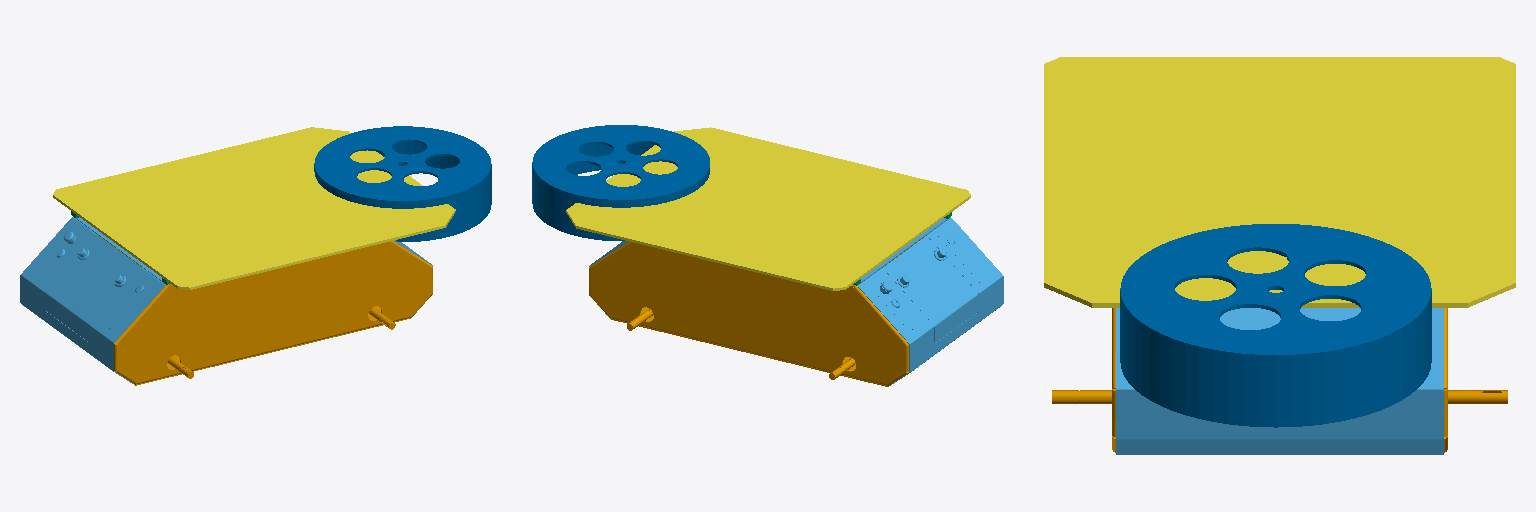
The robot description file, URDF, robot "husky":
<?xml version="1.0" encoding="utf-8"?>
<!-- =================================================================================== -->
<!-- |    This document was autogenerated by xacro from husky_for_copying.urdf.xacro   | -->
<!-- |    EDITING THIS FILE BY HAND IS NOT RECOMMENDED                                 | -->
<!-- =================================================================================== -->
<!--
Software License Agreement (BSD)
\file      husky.urdf.xacro
\authors   [author] <[email redacted]>, [author] <[email redacted]>
\copyright Copyright (c) 2015, Clearpath Robotics, Inc., All rights reserved.
Redistribution and use in source and binary forms, with or without modification, are permitted provided that
the following conditions are met:
 * Redistributions of source code must retain the above copyright notice, this list of conditions and the
   following disclaimer.
 * Redistributions in binary form must reproduce the above copyright notice, this list of conditions and the
   following disclaimer in the documentation and/or other materials provided with the distribution.
 * Neither the name of Clearpath Robotics nor the names of its contributors may be used to endorse or promote
   products derived from this software without specific prior written permission.
THIS SOFTWARE IS PROVIDED BY THE COPYRIGHT [author] "AS IS" AND ANY EXPRESS OR IMPLIED WAR-
RANTIES, INCLUDING, BUT NOT LIMITED TO, THE IMPLIED WARRANTIES OF MERCHANTABILITY AND FITNESS FOR A PARTICULAR
PURPOSE ARE DISCLAIMED. IN NO EVENT SHALL THE COPYRIGHT [author] LIABLE FOR ANY DIRECT, IN-
DIRECT, INCIDENTAL, SPECIAL, EXEMPLARY, OR CONSEQUENTIAL DAMAGES (INCLUDING, BUT NOT LIMITED TO, PROCUREMENT
OF SUBSTITUTE GOODS OR SERVICES; LOSS OF USE, DATA, OR PROFITS; OR BUSINESS INTERRUPTION) HOWEVER CAUSED AND
ON ANY THEORY OF LIABILITY, WHETHER IN CONTRACT, STRICT LIABILITY, OR TORT (INCLUDING NEGLIGENCE OR OTHERWISE)
ARISING IN ANY WAY OUT OF THE USE OF THIS SOFTWARE, EVEN IF ADVISED OF THE POSSIBILITY OF SUCH DAMAGE.
-->
<robot name="husky">
  <material name="dark_grey">
    <color rgba="0.2 0.2 0.2 1.0"/>
  </material>
  <material name="medium_grey">
    <color rgba="0.6 0.6 0.6 1.0"/>
  </material>
  <material name="light_grey">
    <color rgba="0.8 0.8 0.8 1.0"/>
  </material>
  <material name="yellow">
    <color rgba="0.8 0.8 0.0 1.0"/>
  </material>
  <material name="black">
    <color rgba="0.15 0.15 0.15 1.0"/>
  </material>
  <material name="white">
    <color rgba="1.0 1.0 1.0 1.0"/>
  </material>
  <material name="red">
    <color rgba="1.0 0.0 0.0 1.0"/>
  </material>
  <!-- Base link is the center of the robot's bottom plate -->
  <link name="base_link">
    <visual>
      <origin rpy="0 0 0" xyz="0 0 0"/>
      <geometry>
        <mesh filename="package://husky_description/meshes/base_link_dae.obj"/>
      </geometry>
    </visual>
    <collision>
      <origin rpy="0 0 0" xyz="0.0 0 0.061875"/>
      <geometry>
        <box size="0.9874 0.5709 0.12375"/>
      </geometry>
    </collision>
    <collision>
      <origin rpy="0 0 0" xyz="0 0 0.175625"/>
      <geometry>
        <box size="0.78992 0.5709 0.10375"/>
      </geometry>
    </collision>
  </link>
  <!-- Base footprint is on the ground under the robot -->
  <link name="base_footprint"/>
  <joint name="base_footprint_joint" type="fixed">
    <origin rpy="0 0 0" xyz="0 0 -0.13228"/>
    <parent link="base_link"/>
    <child link="base_footprint"/>
  </joint>
  <!-- Inertial link stores the robot's inertial information -->
  <link name="inertial_link">
    <inertial>
      <mass value="46.034"/>
      <origin xyz="-0.00065 -0.085 0.062"/>
      <inertia ixx="0.6022" ixy="-0.02364" ixz="-0.1197" iyy="1.7386" iyz="-0.001544" izz="2.0296"/>
    </inertial>
  </link>
  <joint name="inertial_joint" type="fixed">
    <origin rpy="0 0 0" xyz="0 0 0"/>
    <parent link="base_link"/>
    <child link="inertial_link"/>
  </joint>
  <!-- IMU Link is the standard mounting position for the UM6 IMU.-->
  <!-- Can be modified with environment variables in /etc/ros/setup.bash -->
  <link name="imu_link"/>
  <joint name="imu_joint" type="fixed">
    <origin rpy="0 -1.5708 3.1416" xyz="0.19 0 0.149"/>
    <parent link="base_link"/>
    <child link="imu_link"/>
  </joint>
  <gazebo reference="imu_link">
  </gazebo>
<!--
  <link name="front_bumper_link">
    <visual>
      <geometry>
        <origin rpy="0 0 3.14159" xyz="0.48 0 0.091"/>
        <cylinder length="0.1" radius="0.22"/>
      </geometry>
      <material name="blue">
        <color rgba="0 0 .8 1"/>
      </material>
    </visual>
    <collision>
      <geometry>
        <origin rpy="0 0 3.14159" xyz="0.48 0 0.091"/>
        <cylinder length="0.1" radius="0.22"/>
      </geometry>
    </collision>
    <inertial>
      <mass value="1"/>
      <inertia ixx="0.2" ixy="0.0" ixz="0.0" iyy="0.2" iyz="0.0" izz="0.1"/>
    </inertial>
  </link>
add joint too?-->


  <link name="front_bumper_link">
    <visual>
      <geometry>
        <mesh filename="package://husky_description/meshes/circle_bumper_stl.obj" scale="1.3 1.0 1.3"/>
      </geometry>
    </visual>
    <collision>
      <geometry>
        <mesh filename="package://husky_description/meshes/circle_bumper_stl.obj" scale="1.3 1.0 1.3"/>
      </geometry>
    </collision>
  </link>
  <!-- Attach front bumper -->
  <joint name="front_bumper" type="fixed">
    <origin rpy="-1.5707 0 0" xyz="0.25 -0.20 0.27"/>
    <parent link="base_link"/>
    <child link="front_bumper_link"/>
  </joint> 



  <link name="front_left_wheel_link">
    <inertial>
      <mass value="2.637"/>
      <origin xyz="0 0 0"/>
      <inertia ixx="0.02467" ixy="0" ixz="0" iyy="0.04411" iyz="0" izz="0.02467"/>
    </inertial>
    <visual>
      <origin rpy="0 0 0" xyz="0 0 0"/>
      <geometry>
        <mesh filename="package://husky_description/meshes/wheel_dae.obj"/>
      </geometry>
    </visual>
    <collision>
      <origin rpy="1.570795 0 0" xyz="0 0 0"/>
      <geometry>
        <cylinder length="0.1143" radius="0.1651"/>
      </geometry>
    </collision>
  </link>
  <gazebo reference="front_left_wheel_link">
    <mu1 value="1.0"/>
    <mu2 value="0.5"/>
    <kp value="10000000.0"/>
    <kd value="1.0"/>
    <fdir1 value="1 0 0"/>
  </gazebo>
  <joint name="front_left_wheel" type="continuous">
    <parent link="base_link"/>
    <child link="front_left_wheel_link"/>
    <origin rpy="0 0 0" xyz="0.256 0.2854 0.03282"/>
    <axis rpy="0 0 0" xyz="0 1 0"/>
  </joint>
  <transmission name="front_left_wheel_trans" type="SimpleTransmission">
    <type>transmission_interface/SimpleTransmission</type>
    <actuator name="front_left_wheel_motor">
      <mechanicalReduction>1</mechanicalReduction>
    </actuator>
    <joint name="front_left_wheel">
      <hardwareInterface>hardware_interface/VelocityJointInterface</hardwareInterface>
    </joint>
  </transmission>
  <link name="front_right_wheel_link">
    <inertial>
      <mass value="2.637"/>
      <origin xyz="0 0 0"/>
      <inertia ixx="0.02467" ixy="0" ixz="0" iyy="0.04411" iyz="0" izz="0.02467"/>
    </inertial>
    <visual>
      <origin rpy="0 0 0" xyz="0 0 0"/>
      <geometry>
        <mesh filename="package://husky_description/meshes/wheel_dae.obj"/>
      </geometry>
    </visual>
    <collision>
      <origin rpy="1.570795 0 0" xyz="0 0 0"/>
      <geometry>
        <cylinder length="0.1143" radius="0.1651"/>
      </geometry>
    </collision>
  </link>
  <gazebo reference="front_right_wheel_link">
    <mu1 value="1.0"/>
    <mu2 value="0.5"/>
    <kp value="10000000.0"/>
    <kd value="1.0"/>
    <fdir1 value="1 0 0"/>
  </gazebo>
  <joint name="front_right_wheel" type="continuous">
    <parent link="base_link"/>
    <child link="front_right_wheel_link"/>
    <origin rpy="0 0 0" xyz="0.256 -0.2854 0.03282"/>
    <axis rpy="0 0 0" xyz="0 1 0"/>
  </joint>
  <transmission name="front_right_wheel_trans" type="SimpleTransmission">
    <type>transmission_interface/SimpleTransmission</type>
    <actuator name="front_right_wheel_motor">
      <mechanicalReduction>1</mechanicalReduction>
    </actuator>
    <joint name="front_right_wheel">
      <hardwareInterface>hardware_interface/VelocityJointInterface</hardwareInterface>
    </joint>
  </transmission>
  <link name="rear_left_wheel_link">
    <inertial>
      <mass value="2.637"/>
      <origin xyz="0 0 0"/>
      <inertia ixx="0.02467" ixy="0" ixz="0" iyy="0.04411" iyz="0" izz="0.02467"/>
    </inertial>
    <visual>
      <origin rpy="0 0 0" xyz="0 0 0"/>
      <geometry>
        <mesh filename="package://husky_description/meshes/wheel_dae.obj"/>
      </geometry>
    </visual>
    <collision>
      <origin rpy="1.570795 0 0" xyz="0 0 0"/>
      <geometry>
        <cylinder length="0.1143" radius="0.1651"/>
      </geometry>
    </collision>
  </link>
  <gazebo reference="rear_left_wheel_link">
    <mu1 value="1.0"/>
    <mu2 value="0.5"/>
    <kp value="10000000.0"/>
    <kd value="1.0"/>
    <fdir1 value="1 0 0"/>
  </gazebo>
  <joint name="rear_left_wheel" type="continuous">
    <parent link="base_link"/>
    <child link="rear_left_wheel_link"/>
    <origin rpy="0 0 0" xyz="-0.256 0.2854 0.03282"/>
    <axis rpy="0 0 0" xyz="0 1 0"/>
  </joint>
  <transmission name="rear_left_wheel_trans" type="SimpleTransmission">
    <type>transmission_interface/SimpleTransmission</type>
    <actuator name="rear_left_wheel_motor">
      <mechanicalReduction>1</mechanicalReduction>
    </actuator>
    <joint name="rear_left_wheel">
      <hardwareInterface>hardware_interface/VelocityJointInterface</hardwareInterface>
    </joint>
  </transmission>
  <link name="rear_right_wheel_link">
    <inertial>
      <mass value="2.637"/>
      <origin xyz="0 0 0"/>
      <inertia ixx="0.02467" ixy="0" ixz="0" iyy="0.04411" iyz="0" izz="0.02467"/>
    </inertial>
    <visual>
      <origin rpy="0 0 0" xyz="0 0 0"/>
      <geometry>
        <mesh filename="package://husky_description/meshes/wheel_dae.obj"/>
      </geometry>
    </visual>
    <collision>
      <origin rpy="1.570795 0 0" xyz="0 0 0"/>
      <geometry>
        <cylinder length="0.1143" radius="0.1651"/>
      </geometry>
    </collision>
  </link>
  <gazebo reference="rear_right_wheel_link">
    <mu1 value="1.0"/>
    <mu2 value="0.5"/>
    <kp value="10000000.0"/>
    <kd value="1.0"/>
    <fdir1 value="1 0 0"/>
  </gazebo>
  <joint name="rear_right_wheel" type="continuous">
    <parent link="base_link"/>
    <child link="rear_right_wheel_link"/>
    <origin rpy="0 0 0" xyz="-0.256 -0.2854 0.03282"/>
    <axis rpy="0 0 0" xyz="0 1 0"/>
  </joint>
  <transmission name="rear_right_wheel_trans" type="SimpleTransmission">
    <type>transmission_interface/SimpleTransmission</type>
    <actuator name="rear_right_wheel_motor">
      <mechanicalReduction>1</mechanicalReduction>
    </actuator>
    <joint name="rear_right_wheel">
      <hardwareInterface>hardware_interface/VelocityJointInterface</hardwareInterface>
    </joint>
  </transmission>
  <!-- Spawn Husky chassis -->
  <link name="top_chassis_link">
    <visual>
      <origin rpy="0 0 0" xyz="0 0 0"/>
      <geometry>
        <mesh filename="package://husky_description/meshes/top_chassis_dae.obj"/>
      </geometry>
    </visual>
  </link>
  <!-- Attach chassis to the robot -->
  <joint name="top_chassis_joint" type="fixed">
    <parent link="base_link"/>
    <child link="top_chassis_link"/>
  </joint>
  <!-- Spawn user rails -->
  <link name="user_rail_link">
    <visual>
      <geometry>
        <mesh filename="package://husky_description/meshes/user_rail_dae.obj"/>
      </geometry>
    </visual>
  </link>
  <!-- Attach user rails to base link -->
  <joint name="user_rail" type="fixed">
    <origin rpy="0 0 0" xyz="0.272 0 0.245"/>
    <parent link="base_link"/>
    <child link="user_rail_link"/>
  </joint>
  <link name="top_plate_link">
    <visual>
      <origin rpy="0 0 0" xyz="0 0 0"/>
      <geometry>
        <mesh filename="package://husky_description/meshes/top_plate_dae.obj"/>
      </geometry>
    </visual>
    <collision>
      <origin rpy="0 0 0" xyz="0 0 0"/>
      <geometry>
        <mesh filename="package://husky_description/meshes/top_plate_stl.obj"/>
      </geometry>
    </collision>
  </link>
  <!-- Attach top plate -->
  <joint name="top_plate_joint" type="fixed">
    <parent link="base_link"/>
    <child link="top_plate_link"/>
    <origin rpy="0 0 0" xyz="0.0812 0 0.245"/>
  </joint>
  <!-- Top plate front link -->
  <joint name="top_plate_front_joint" type="fixed">
    <parent link="top_plate_link"/>
    <child link="top_plate_front_link"/>
    <origin rpy="0 0 0" xyz="0.36367 0 0.00639"/>
  </joint>
  <!-- Top plate rear link-->
  <joint name="top_plate_rear_joint" type="fixed">
    <parent link="top_plate_link"/>
    <child link="top_plate_rear_link"/>
    <origin rpy="0 0 0" xyz="-0.36633 0 0.00639"/>
  </joint>
  <link name="top_plate_front_link"/>
  <link name="top_plate_rear_link"/>
  <gazebo>
    <plugin filename="libgazebo_ros_control.so" name="gazebo_ros_control">
      <robotNamespace>/</robotNamespace>
      <legacyModeNS>true</legacyModeNS>
    </plugin>
  </gazebo>
  <gazebo>
    <plugin filename="libhector_gazebo_ros_imu.so" name="imu_controller">
      <robotNamespace>/</robotNamespace>
      <updateRate>50.0</updateRate>
      <bodyName>base_link</bodyName>
      <topicName>imu/data</topicName>
      <accelDrift>0.005 0.005 0.005</accelDrift>
      <accelGaussianNoise>0.005 0.005 0.005</accelGaussianNoise>
      <rateDrift>0.005 0.005 0.005 </rateDrift>
      <rateGaussianNoise>0.005 0.005 0.005 </rateGaussianNoise>
      <headingDrift>0.005</headingDrift>
      <headingGaussianNoise>0.005</headingGaussianNoise>
    </plugin>
  </gazebo>
  <gazebo>
    <plugin filename="libhector_gazebo_ros_gps.so" name="gps_controller">
      <robotNamespace>/</robotNamespace>
      <updateRate>40</updateRate>
      <bodyName>base_link</bodyName>
      <frameId>base_link</frameId>
      <topicName>navsat/fix</topicName>
      <velocityTopicName>navsat/vel</velocityTopicName>
      <referenceLatitude>49.9</referenceLatitude>
      <referenceLongitude>8.9</referenceLongitude>
      <referenceHeading>0</referenceHeading>
      <referenceAltitude>0</referenceAltitude>
      <drift>0.0001 0.0001 0.0001</drift>
    </plugin>
  </gazebo>
  <!-- This file is a placeholder which is included by default from
       husky.urdf.xacro. If a robot is being customized and requires
       additional URDF, set the HUSKY_URDF_EXTRAS environment variable
       to the full path of the file you would like included. -->
  <!-- This file is a placeholder which is included by default from
       husky.urdf.xacro. If a robot is being customized and requires
       additional URDF, set the HUSKY_URDF_EXTRAS environment variable
       to the full path of the file you would like included. -->
</robot>

--- Render facts (derived) ---
The picture shows the robot from 3 angles, left to right: view 1: azimuth 30°, elevation 25°; view 2: azimuth 150°, elevation 25°; view 3: azimuth 270°, elevation 25°; orthographic projection.
Model husky with 14 links and 13 joints (4 continuous, 9 fixed), rooted at base_link, posed every joint at zero.
Visible links, largest first — view 1: top_plate_link, base_link, front_bumper_link, top_chassis_link; view 2: top_plate_link, base_link, front_bumper_link, top_chassis_link; view 3: top_plate_link, front_bumper_link, top_chassis_link, base_link.
Link boxes in pixels (left/top/right/bottom): top_plate_link: left=53, top=127, right=455, bottom=289; base_link: left=75, top=218, right=432, bottom=385; front_bumper_link: left=314, top=126, right=491, bottom=241; top_chassis_link: left=20, top=217, right=432, bottom=384; top_plate_link: left=566, top=127, right=970, bottom=290; base_link: left=589, top=217, right=950, bottom=386; front_bumper_link: left=532, top=125, right=709, bottom=240; top_chassis_link: left=589, top=218, right=1003, bottom=386; top_plate_link: left=1044, top=57, right=1515, bottom=307; front_bumper_link: left=1120, top=224, right=1431, bottom=427; top_chassis_link: left=1116, top=308, right=1443, bottom=454; base_link: left=1052, top=308, right=1507, bottom=452.
Bounding box of the posed robot: 1.05 × 0.59 × 0.2732 m (x, y, z).
Meshes: 6 distinct files referenced, 5 mesh visuals loaded (5 OBJ); not drawn: 4 (reference not matched to a file when rendering).